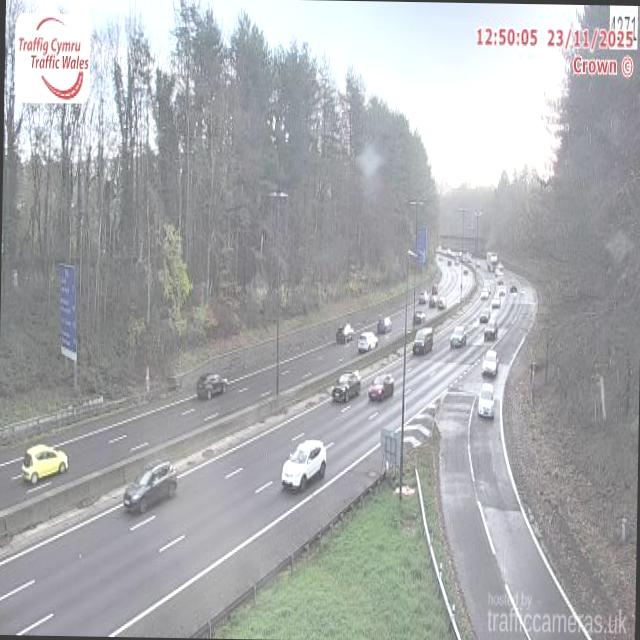foliage: (0, 0, 435, 402), (493, 45, 640, 553)
